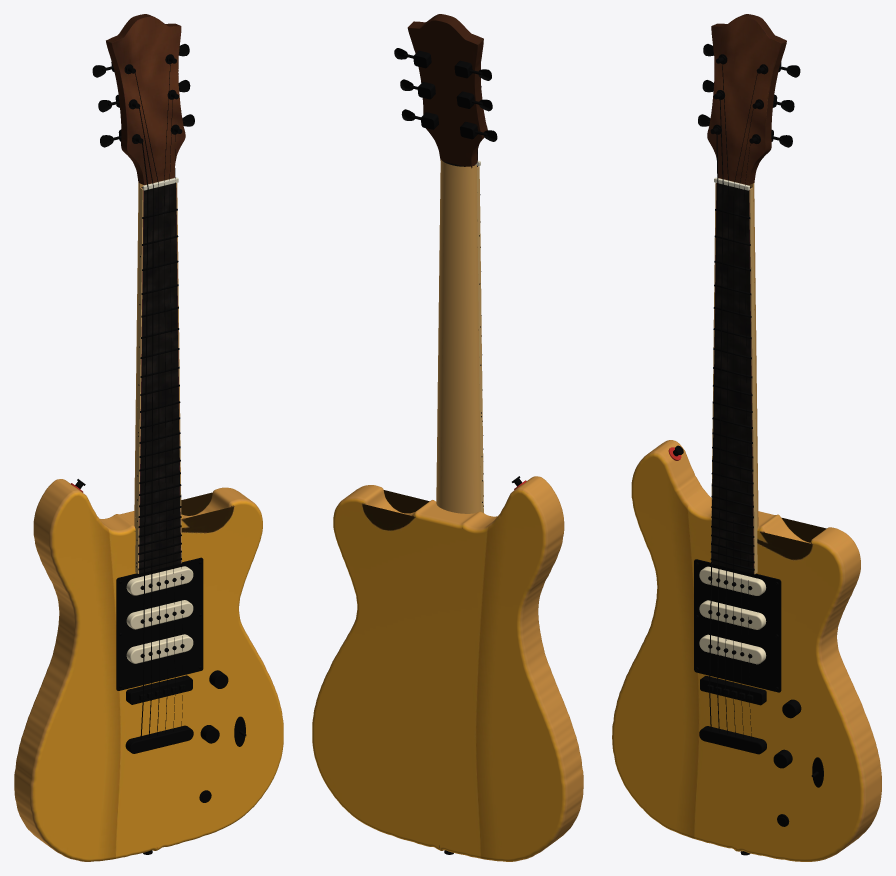
The model's file is garcia.glb.
3 renders of one model, left to right at view 1: azimuth 30°, elevation 25°; view 2: azimuth 150°, elevation 25°; view 3: azimuth 330°, elevation 25°, orthographic.
Parts seen in each view (by area): view 1: garcia; view 2: garcia; view 3: garcia.
Boxes of the visible parts, x1,y1,x2,y2 form: garcia: (14, 14, 283, 861); garcia: (312, 14, 583, 861); garcia: (612, 14, 881, 861).
Size of the model in its own units: 0.3334 by 1.05 by 0.059.
Materials: 1 (1 with a texture image).
